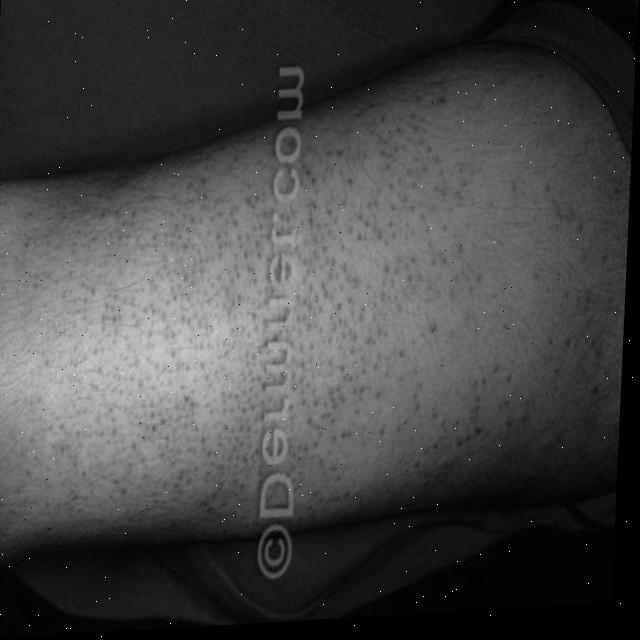Eczema: (0, 150, 547, 564)
